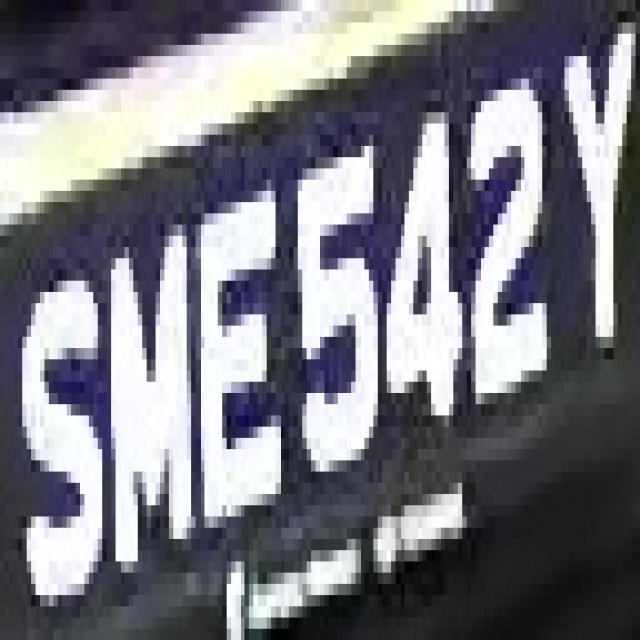2: (453, 79, 551, 449)
4: (369, 56, 471, 517)
5: (294, 123, 382, 483)
E: (187, 146, 280, 539)
M: (116, 180, 196, 595)
S: (13, 236, 111, 629)
Y: (546, 0, 640, 382)
